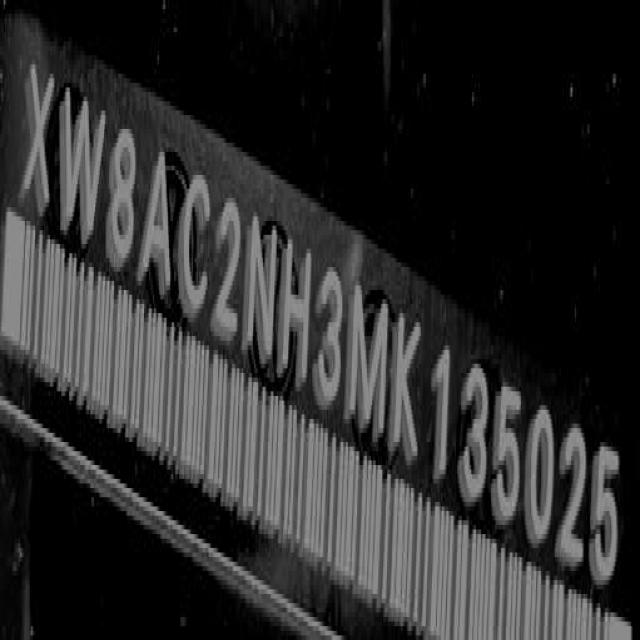0: (526, 401, 554, 561)
1: (431, 339, 451, 499)
2: (211, 194, 244, 356), (558, 417, 589, 582)
3: (458, 346, 488, 517), (314, 261, 345, 415)
5: (594, 432, 624, 596), (494, 378, 524, 540)
8: (109, 123, 139, 280)
A: (140, 145, 180, 308)
C: (178, 169, 214, 329)
H: (279, 227, 313, 394)
K: (391, 307, 422, 481)
M: (347, 283, 389, 447)
N: (244, 219, 280, 379)
W: (57, 80, 106, 260)
X: (19, 60, 57, 234)
